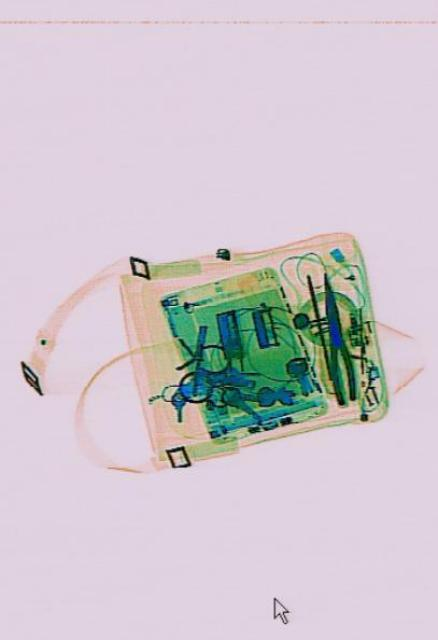Pliers: (312, 266, 357, 406)
